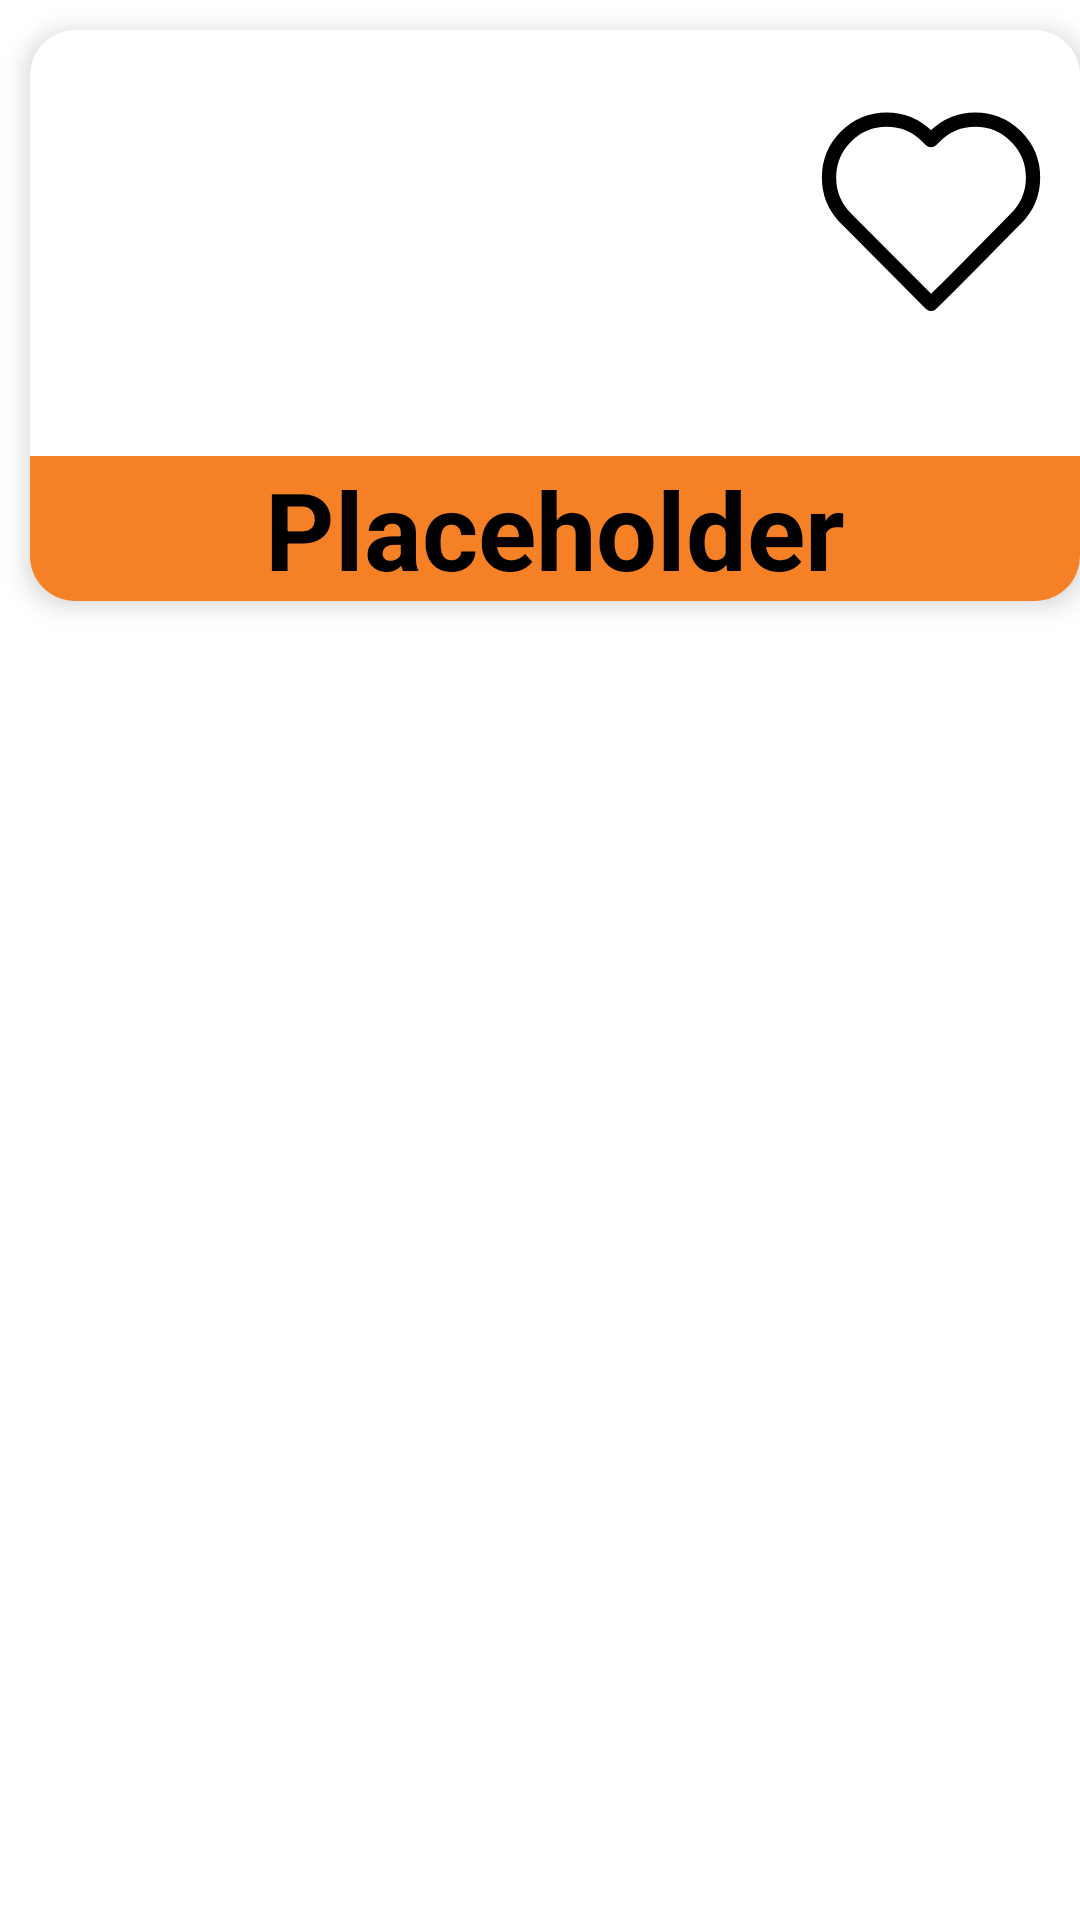

Where icons sit on this 1080×1920 app screen, as (x1, y1, x2, y2):
transactions wishlist: (821, 66, 1080, 311)
